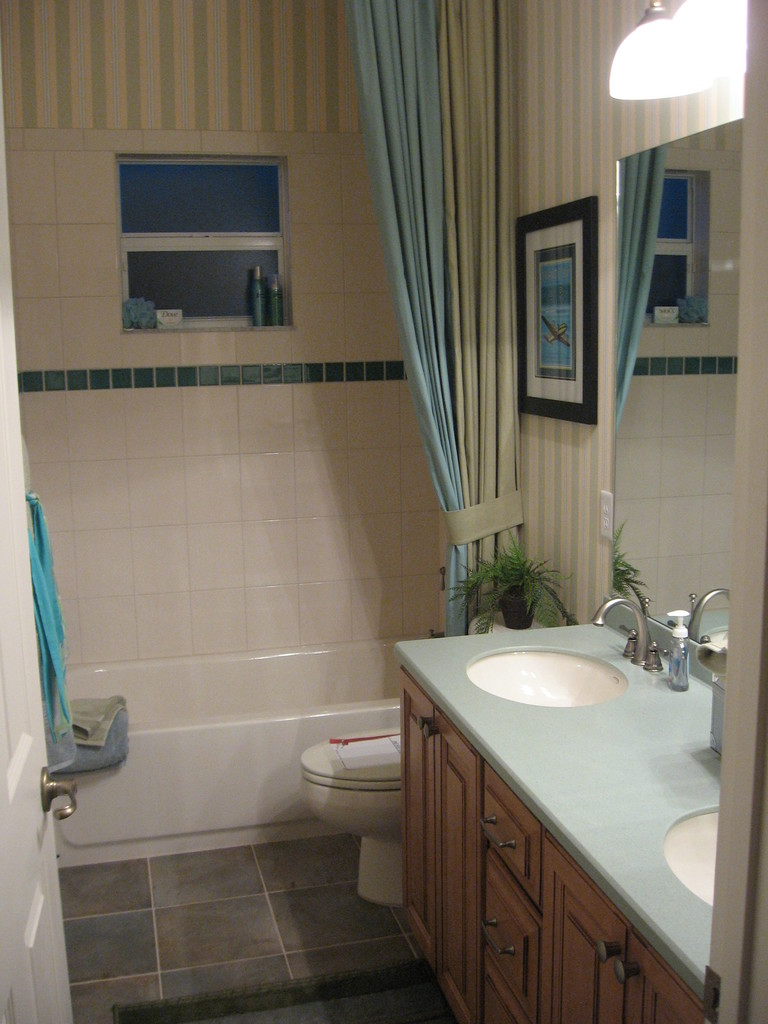tap: (598, 591, 652, 671)
